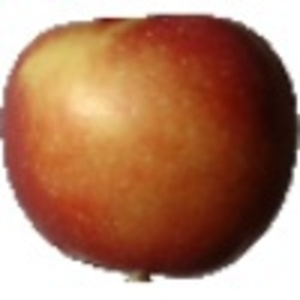maçã braeburn: (1, 13, 300, 275)
